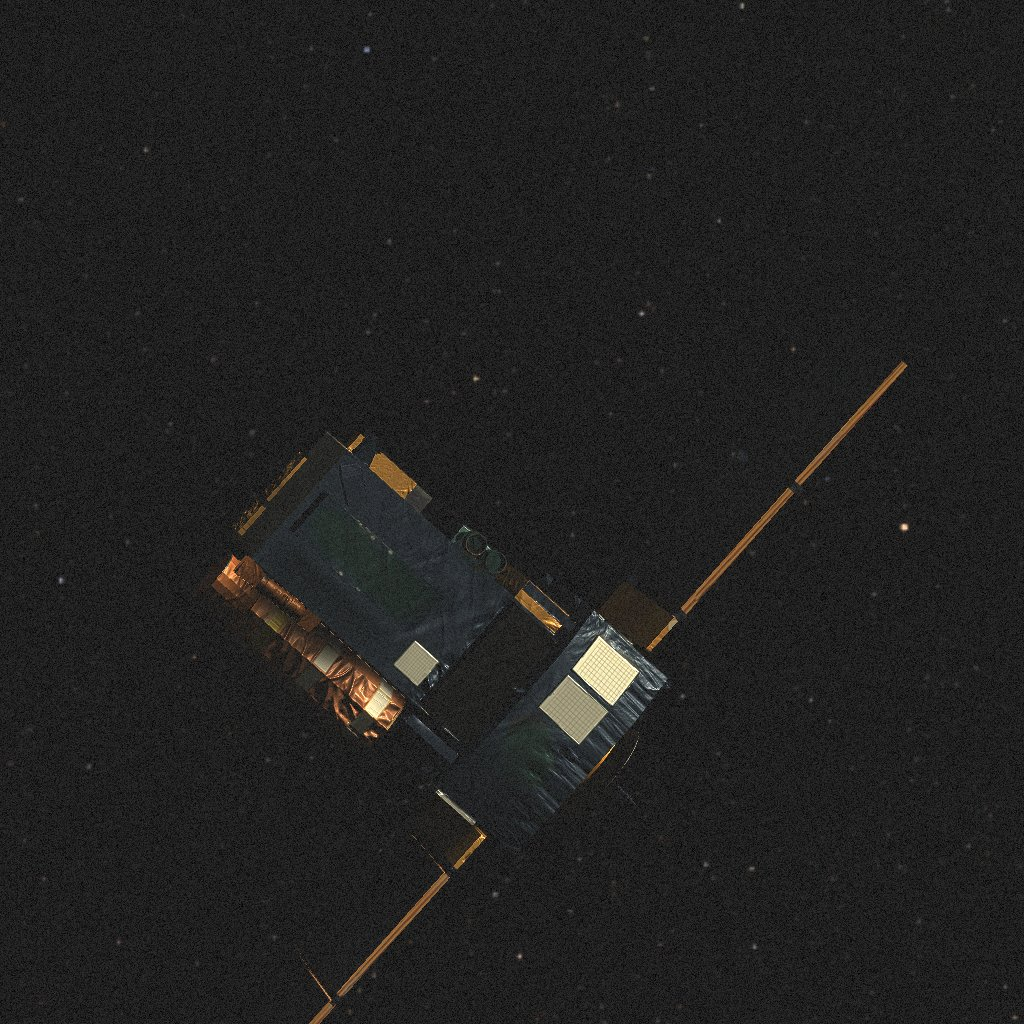soho: (197, 358, 893, 996)
